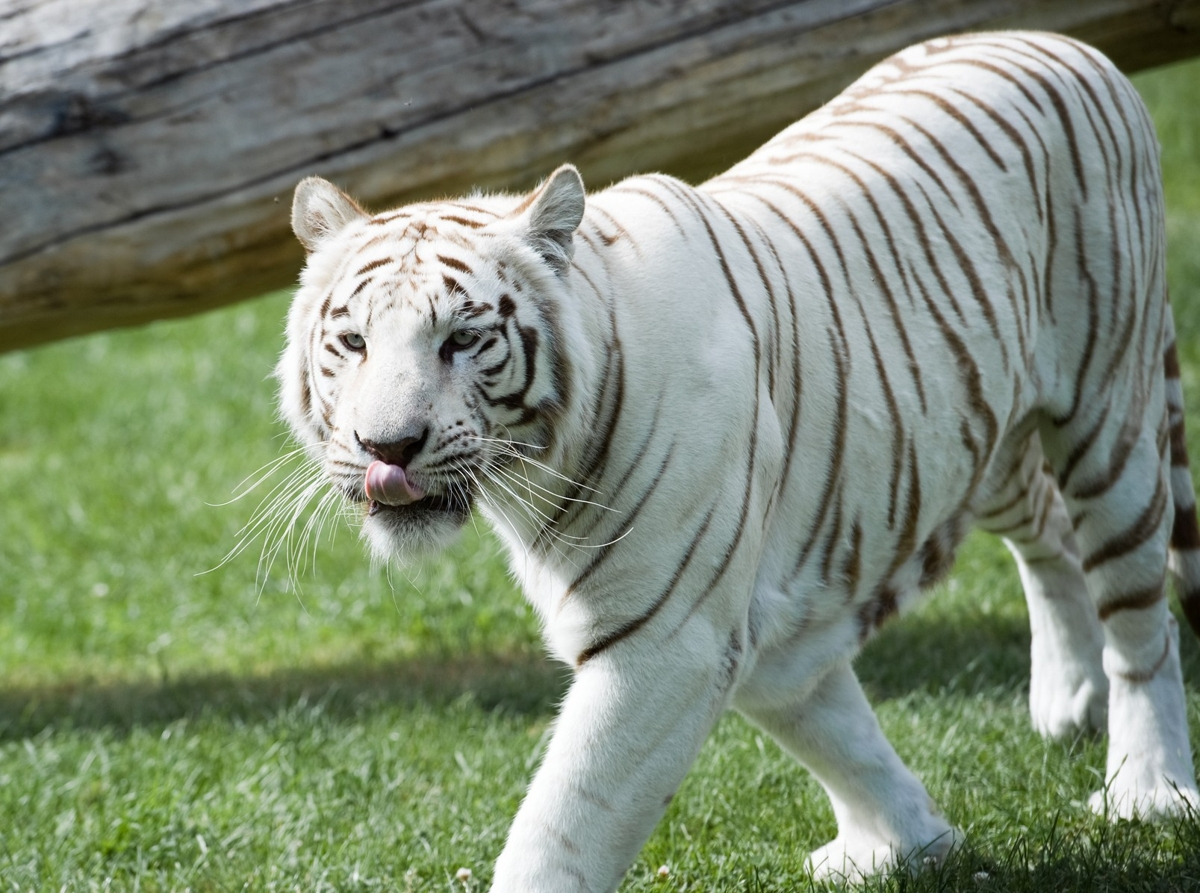Tiger: (236, 8, 1197, 892)
